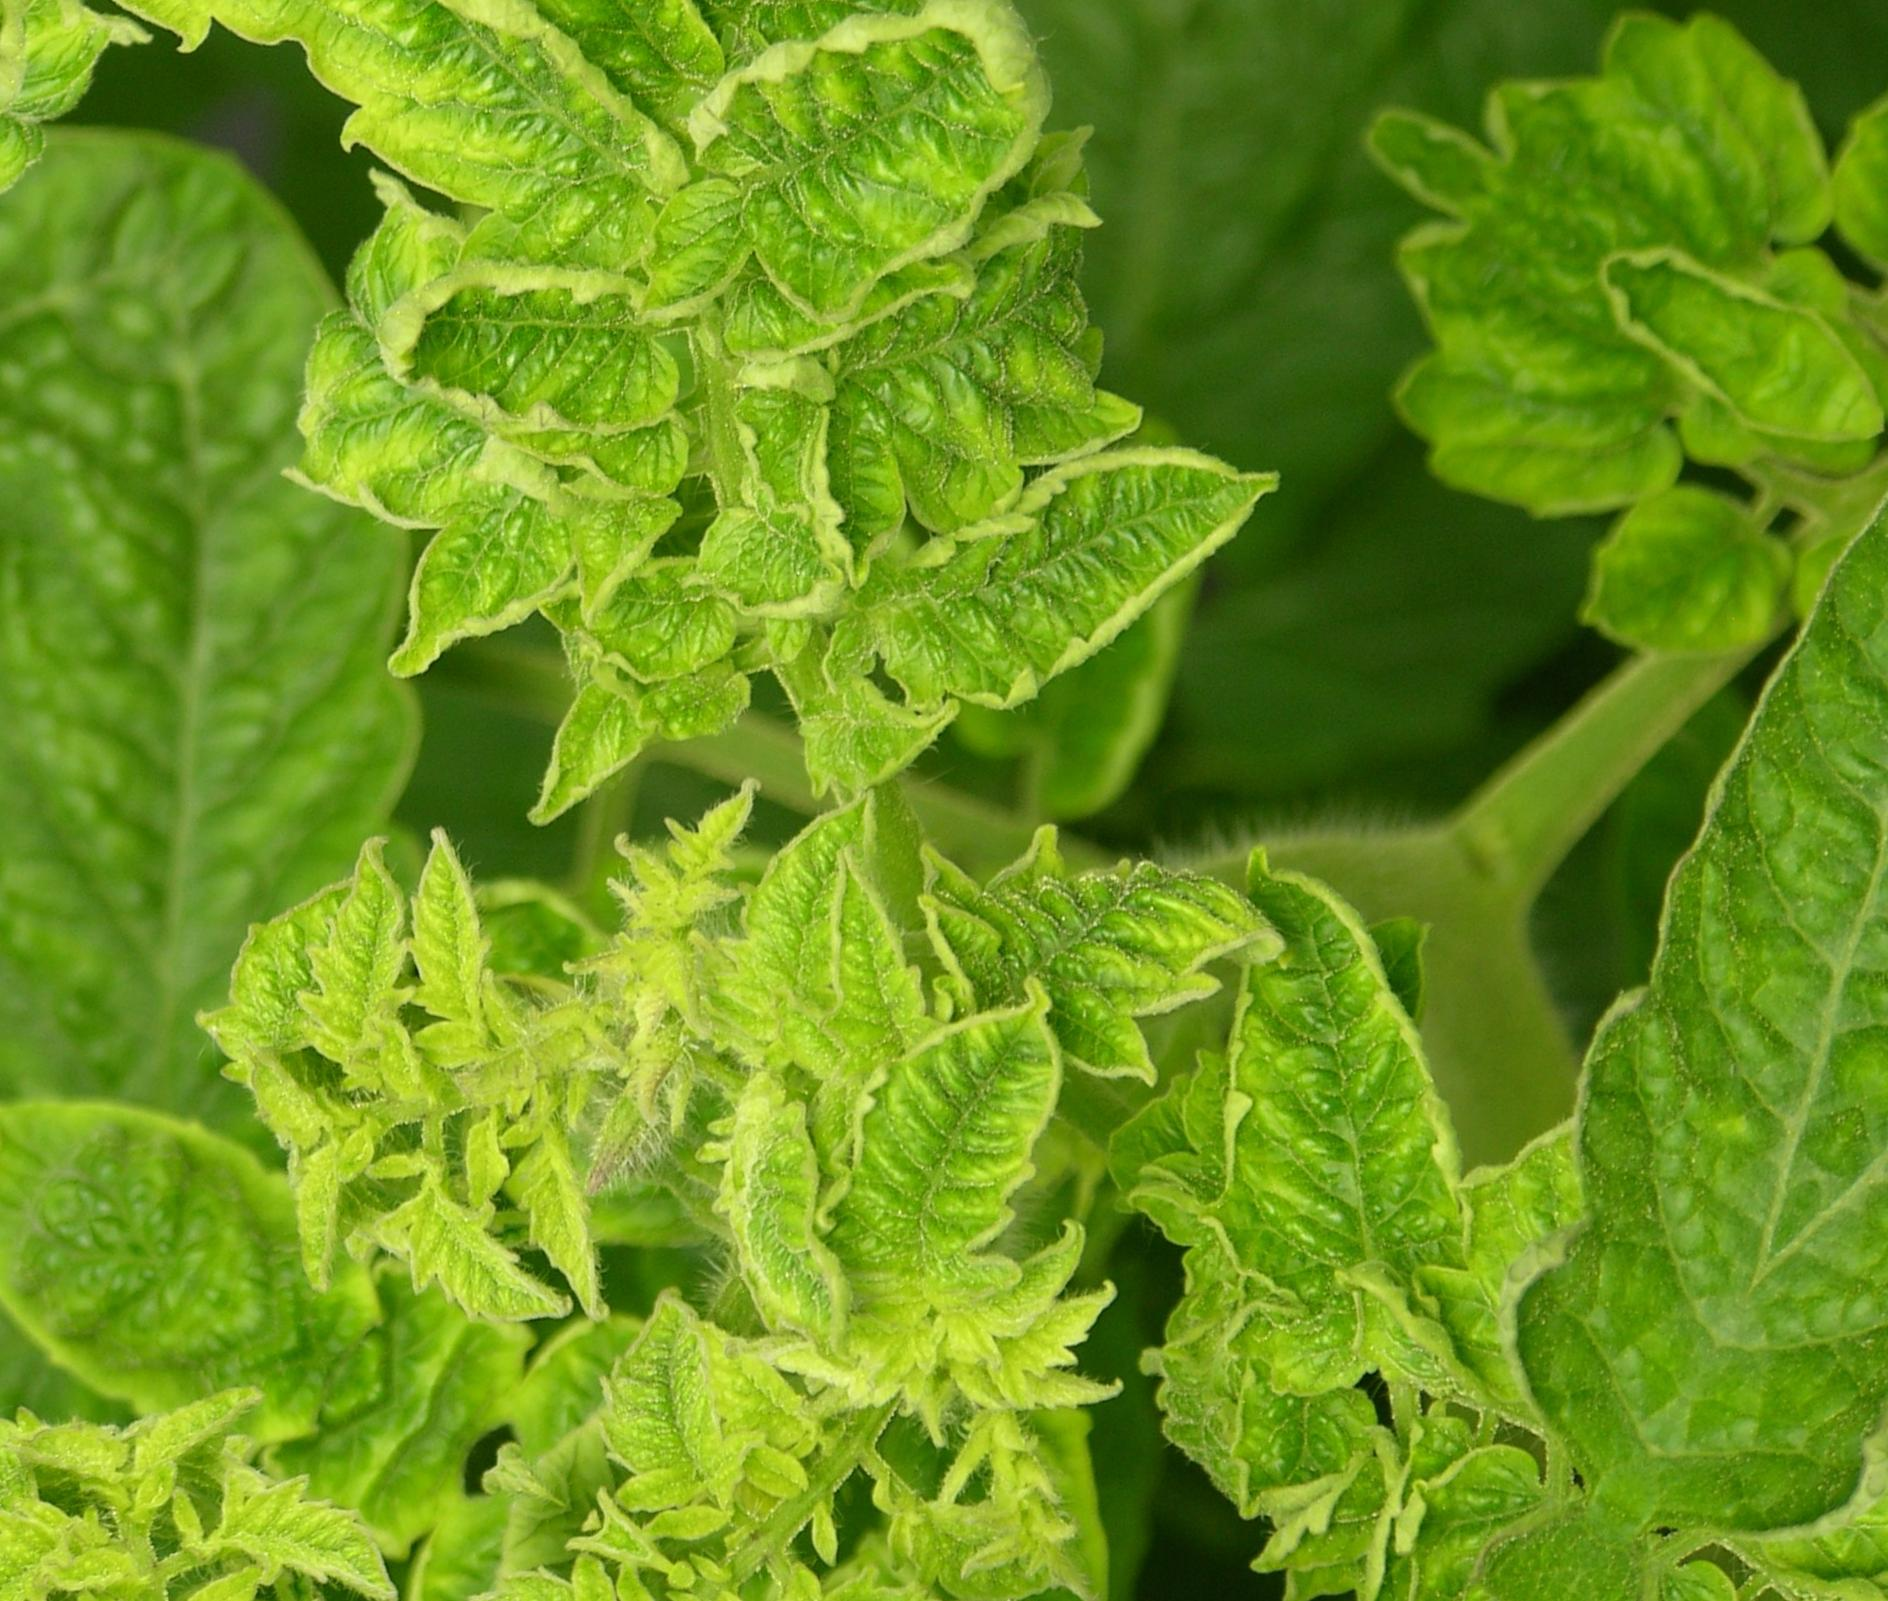Tomato leaf yellow virus: (1173, 389, 1888, 1601), (1000, 793, 1643, 1445), (0, 999, 640, 1503), (783, 281, 1321, 864), (605, 0, 1164, 421), (642, 1323, 1480, 1601), (292, 141, 796, 577), (245, 0, 757, 348), (754, 934, 1148, 1355), (599, 786, 970, 1152), (443, 0, 954, 143), (322, 816, 588, 1066), (243, 862, 451, 1080)
